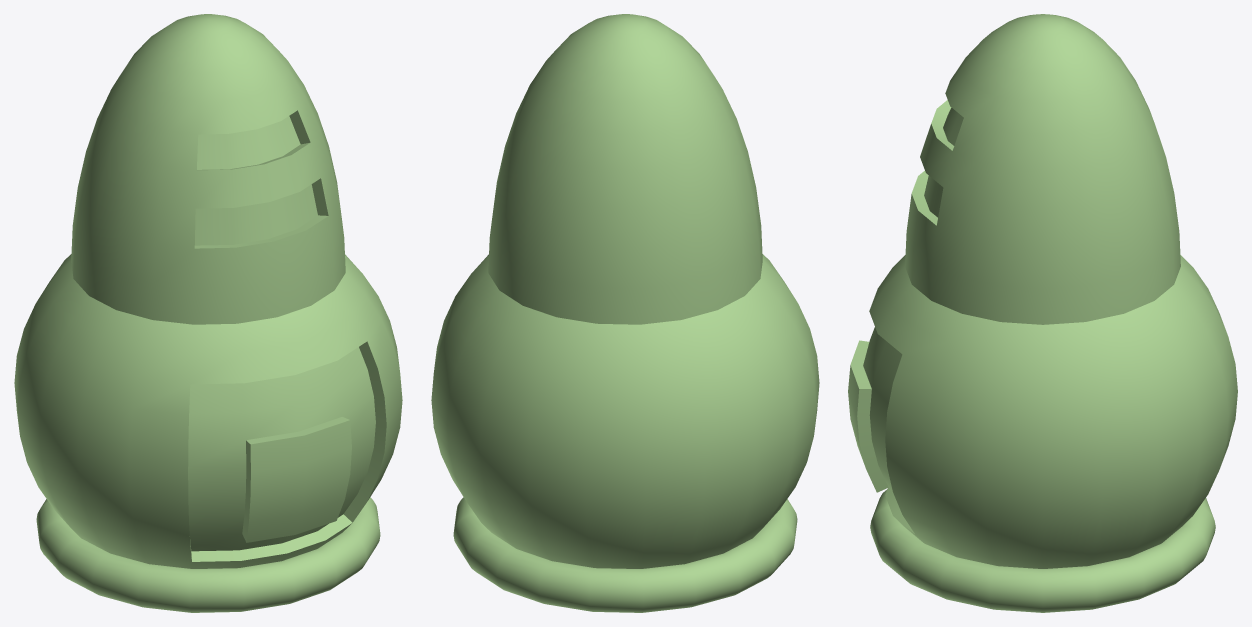
Rendered from robot_001.fbx.
The picture shows the model from 3 angles, left to right: view 1: azimuth 30°, elevation 25°; view 2: azimuth 150°, elevation 25°; view 3: azimuth 270°, elevation 25°; orthographic projection.
Visible parts, largest first — view 1: polySurface1; view 2: polySurface1; view 3: polySurface1.
Part boxes in pixels (bbox=[...]): polySurface1: bbox=[14, 14, 402, 612]; polySurface1: bbox=[431, 14, 819, 612]; polySurface1: bbox=[848, 14, 1237, 612].
Bounding box in the file's own units: 2 × 3.1 × 2.
